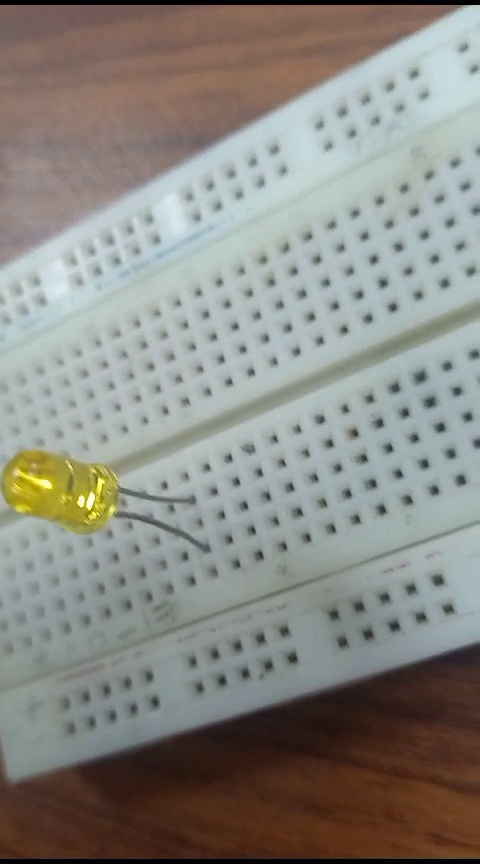LED: (7, 435, 207, 555)
